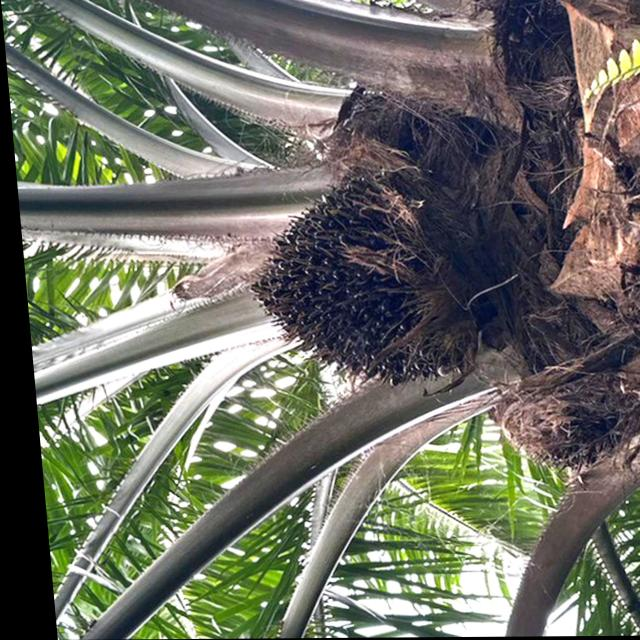unripe: (221, 160, 470, 406)
